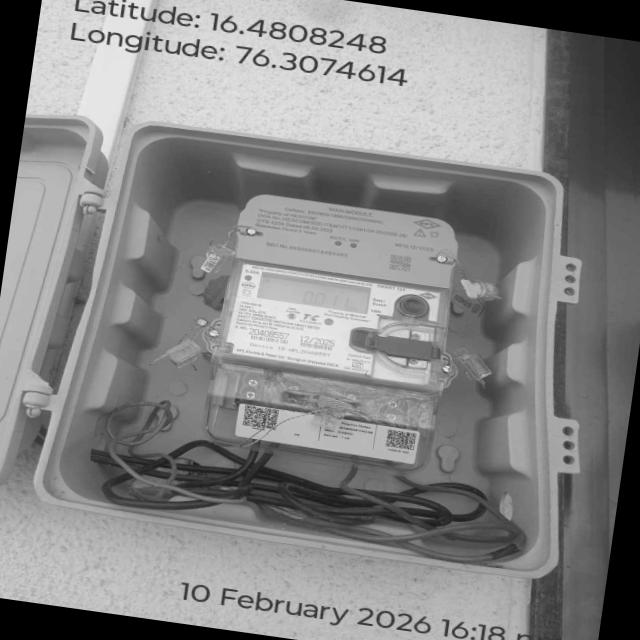meter: (213, 185, 462, 392)
